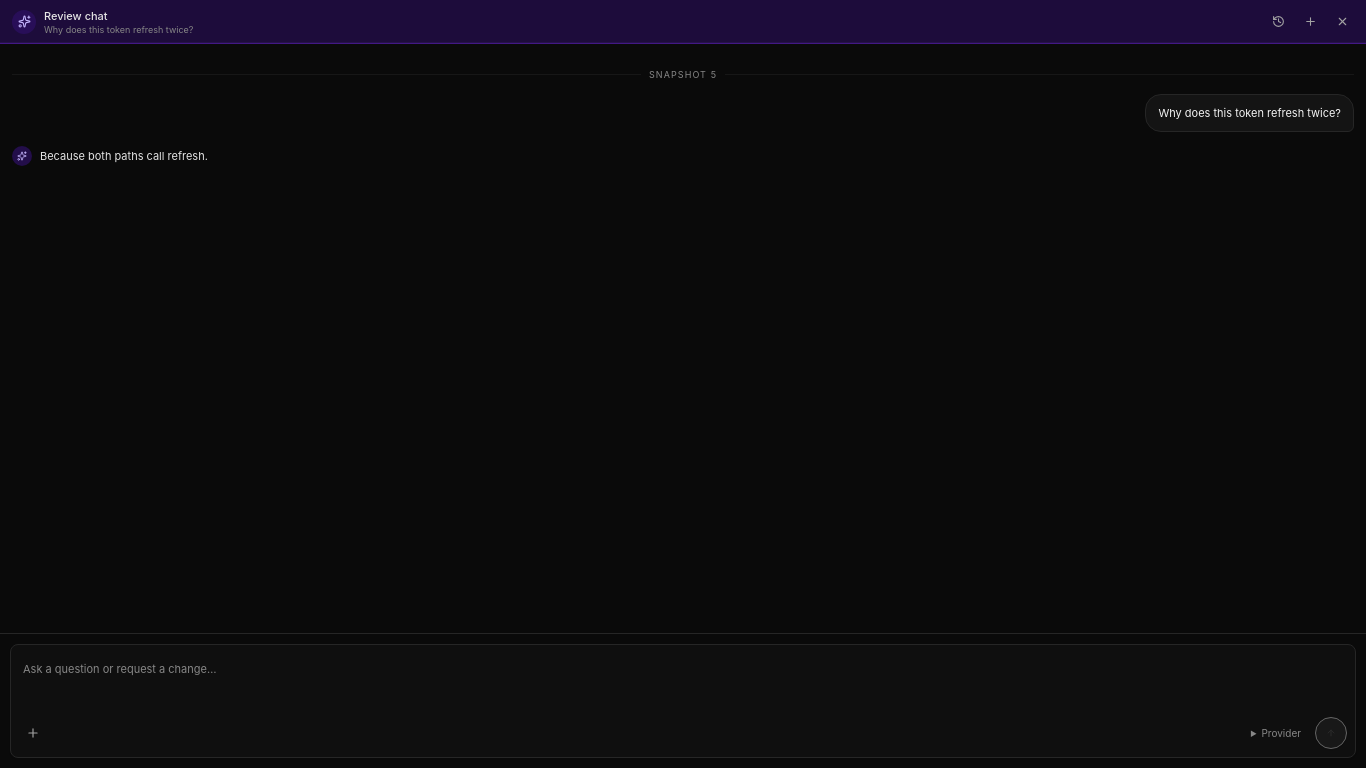
Scenario: ReviewAskDrawer › opens recent Ask conversations in place and starts a clean conversation
The width and height of the screenshot is (1366, 768).
Expected: the text "Because both paths call refresh." is shown, [40, 148, 208, 162]
Click the button named "Ask history". click: x=1278, y=22
box: [1266, 10, 1290, 34]
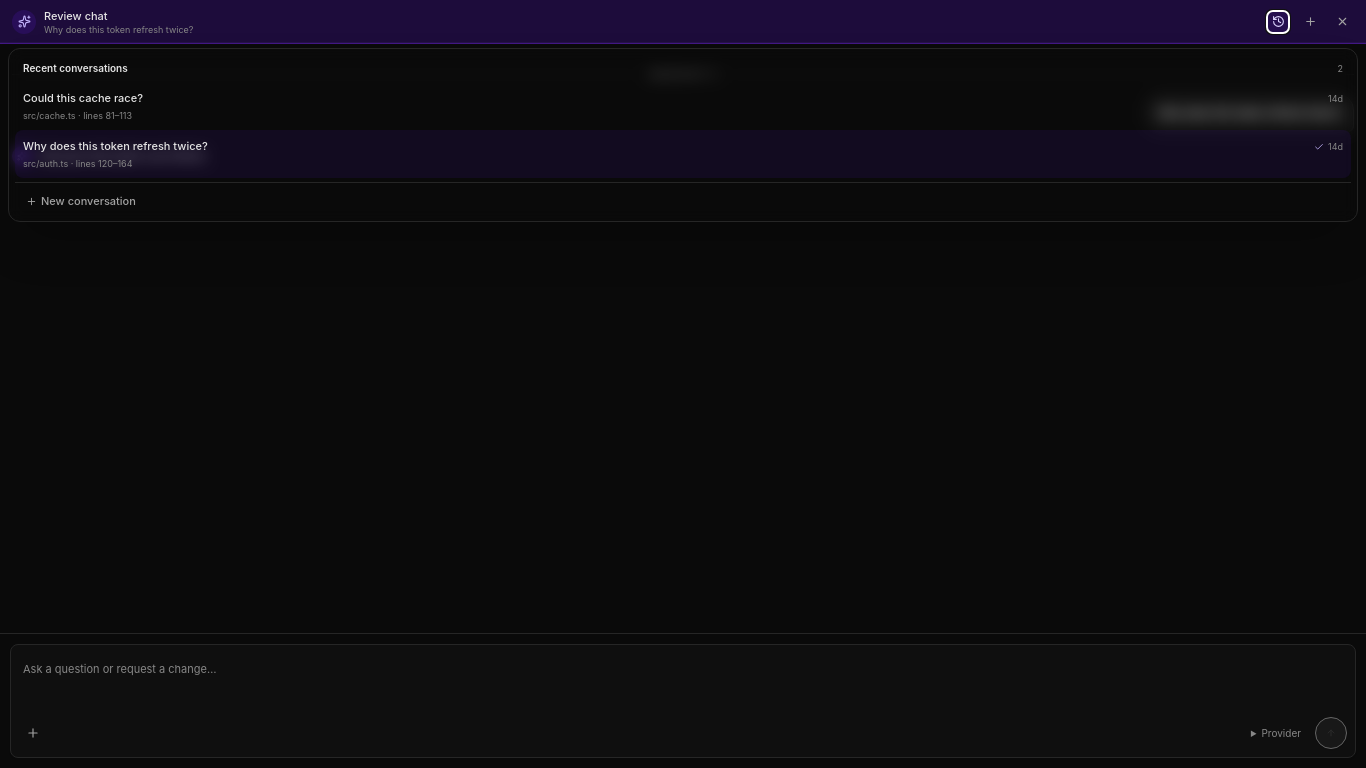
Result: the element named "Recent Ask conversations" is shown at [8, 48, 1358, 222]
Result: the text "src/cache.ts · lines 81–113" is shown at [23, 110, 132, 120]
Click the button with aria-label "Open conversation: Could this cache race?". click: x=83, y=98
box: [15, 82, 1351, 130]
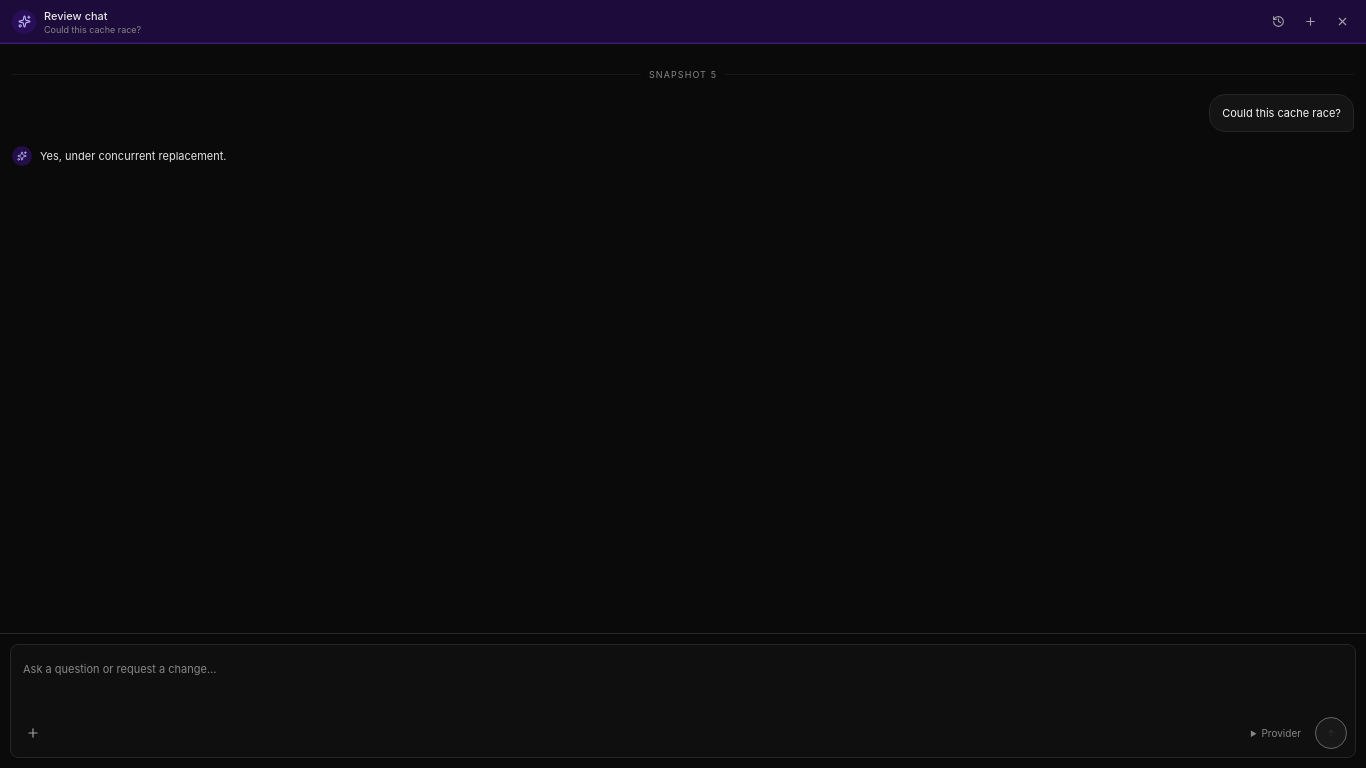
Result: the text "Yes, under concurrent replacement." is shown at [40, 148, 226, 162]
Result: the text "Because both paths call refresh." is gone
Click the button named "New Ask conversation". click: x=1310, y=22
box: [1298, 10, 1322, 34]
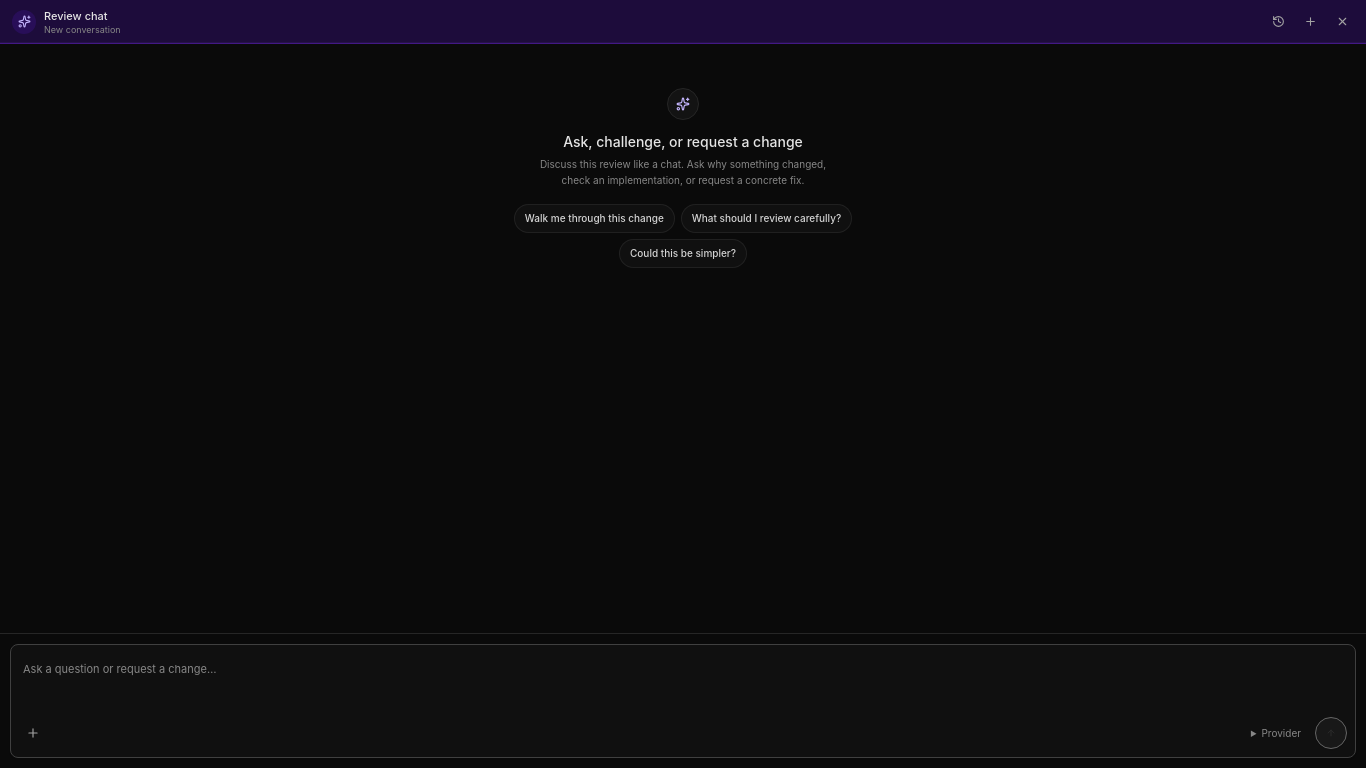
Result: the text "Ask, challenge, or request a change" is shown at [563, 133, 803, 150]
Result: the text "Yes, under concurrent replacement." is gone
